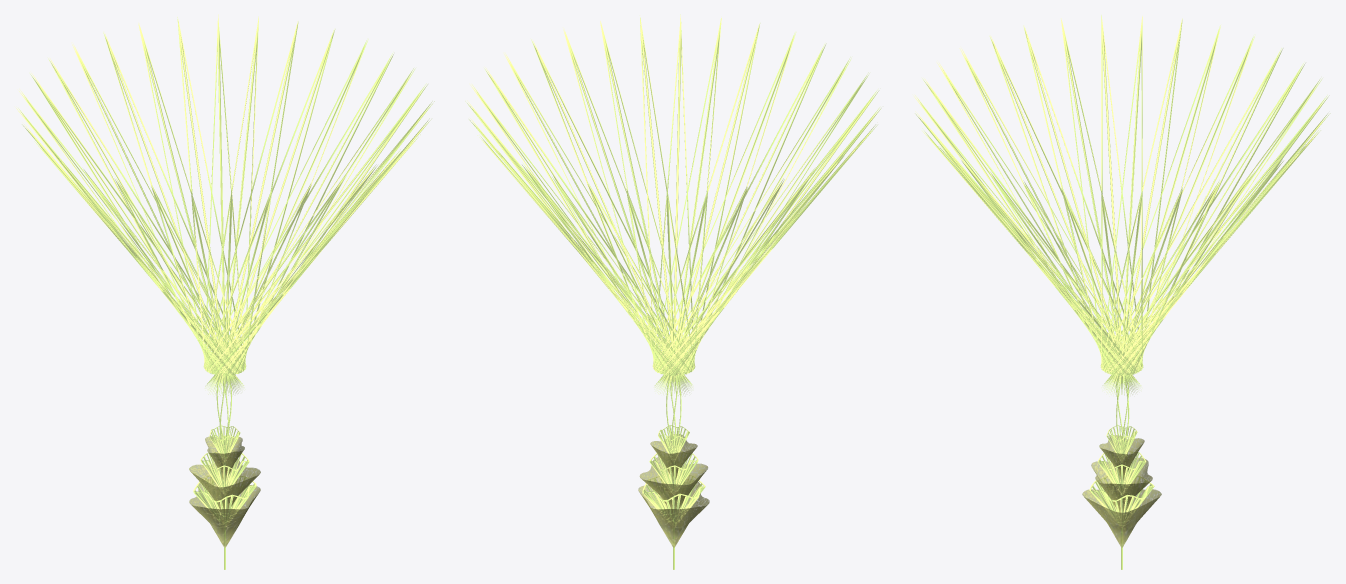
File: desert-lily.glb
3 views of the same model, side by side, from view 1: azimuth 30°, elevation 25°; view 2: azimuth 150°, elevation 25°; view 3: azimuth 270°, elevation 25° (orthographic).
Visible parts, largest first — view 1: Cone.008, Cone, Cone.001, Cone.003, Cone.005, Cone.002, Cone.004; view 2: Cone.008, Cone, Cone.001, Cone.003, Cone.005, Cone.002, Cone.004; view 3: Cone.008, Cone, Cone.001, Cone.003, Cone.005, Cone.002, Cone.004.
Boxes of the visible parts, x1,y1,x2,y2 form: Cone.008: [16, 14, 434, 396]; Cone: [189, 479, 260, 547]; Cone.001: [189, 459, 260, 513]; Cone.003: [193, 475, 256, 527]; Cone.005: [200, 450, 249, 495]; Cone.002: [205, 436, 244, 481]; Cone.004: [209, 425, 240, 461]; Cone.008: [465, 14, 881, 395]; Cone: [638, 480, 709, 547]; Cone.001: [639, 457, 707, 513]; Cone.003: [642, 474, 705, 527]; Cone.005: [649, 451, 698, 495]; Cone.002: [650, 434, 697, 481]; Cone.004: [658, 425, 689, 461]; Cone.008: [914, 15, 1330, 395]; Cone: [1082, 483, 1161, 547]; Cone.001: [1091, 457, 1152, 513]; Cone.003: [1089, 474, 1154, 527]; Cone.005: [1097, 451, 1146, 495]; Cone.002: [1099, 435, 1144, 480]; Cone.004: [1106, 425, 1137, 461].
Size of the model in its own units: 14.33 by 17.62 by 14.33.
2 materials, 1 textured.
